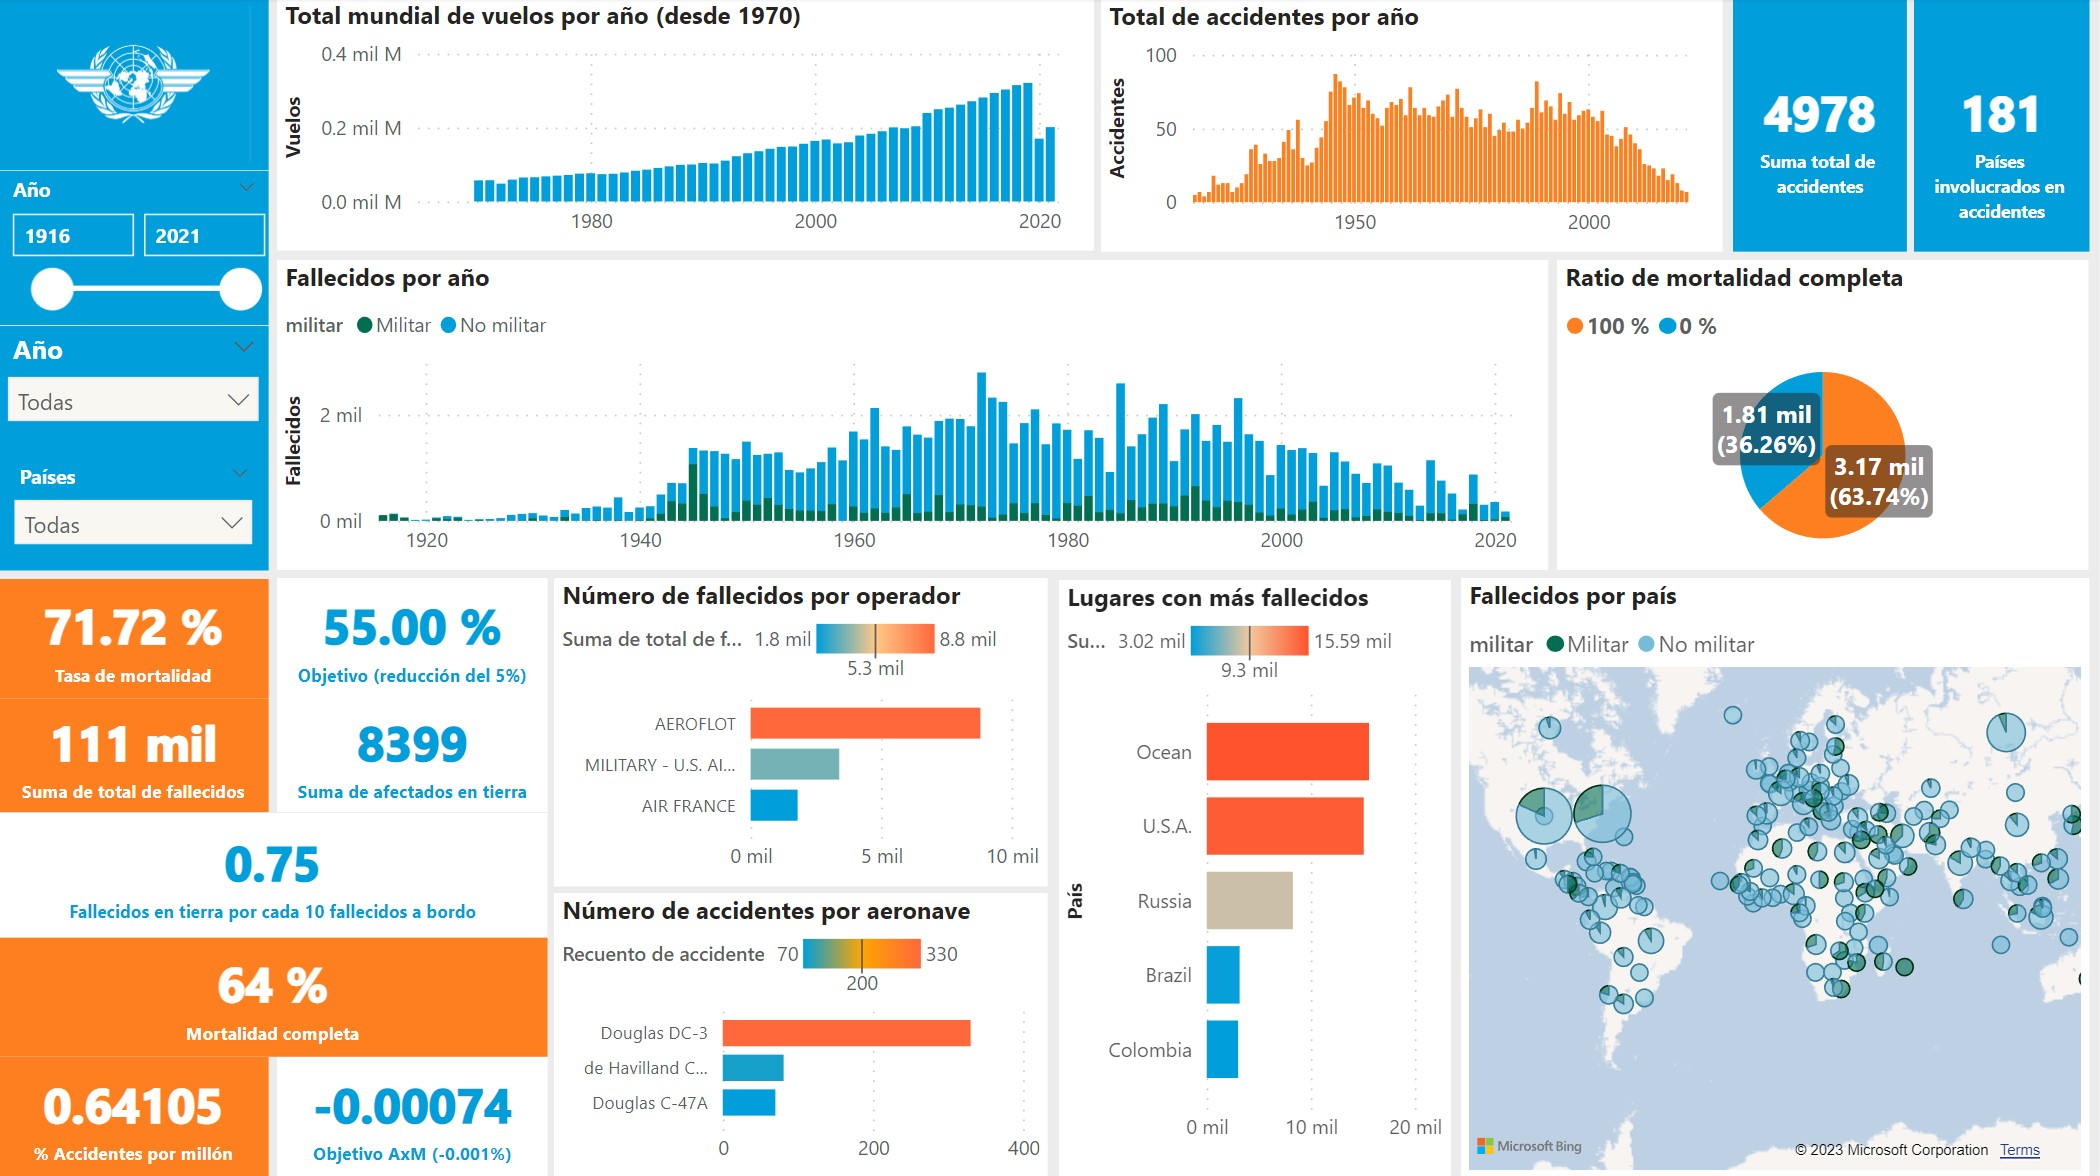

Layout of this report page (visuals, bound fields, positions):
{"tool":"powerbi","page":{"name":"Página 1","canvas":[1280,720],"ordinal":0},"visuals":[{"type":"columnChart","title":"Fallecidos por año","fields":{"Series":["accidentes.military"],"Category":["Calendario.Fecha.Variación.Jerarquía de fechas.Año"],"Y":["Sum(accidentes.total de fallecidos)"]},"box":[169.8,159.7,775,189.3],"z":0},{"type":"card","title":"Accidentes","fields":{"Values":["CountNonNull(accidentes.accidente)"]},"box":[1057.5,0.6,105.6,153.8],"z":1000},{"type":"slicer","fields":{"Values":["Calendario.Fecha.Variación.Jerarquía de fechas.Año"]},"box":[0,200,165.3,77.9],"z":2000},{"type":"card","title":"Accidentes","fields":{"Values":["Sum(accidentes.fatalities_total)"]},"box":[0,427.5,165,69.4],"z":3000},{"type":"card","title":"Accidentes","fields":{"Values":["accidentes.Med_mortalidad"]},"box":[0,354.4,165,73.1],"z":4000},{"type":"clusteredBarChart","title":"Número de fallecidos por operador","fields":{"Category":["accidentes.operador"],"Y":["Sum(accidentes.total de fallecidos)"]},"box":[338.8,353.8,301.2,188.1],"z":5000},{"type":"clusteredBarChart","title":"Número de accidentes por aeronave","fields":{"Category":["accidentes.tipo de aeronave"],"Y":["CountNonNull(accidentes.accidente)"]},"box":[338.8,545.6,301.2,174.4],"z":6000},{"type":"card","title":"Accidentes","fields":{"Values":["Count(accidentes.país)"]},"box":[1168.1,0.6,106.9,153.8],"z":7000},{"type":"map","title":"Fallecidos por país","fields":{"Size":["Sum(accidentes.total de fallecidos)"],"Category":["accidentes.país"],"Series":["accidentes.militar"]},"box":[892,353.9,383.1,366.1],"z":8000},{"type":"pieChart","title":"Ratio de mortalidad completa","fields":{"Category":["accidentes.mortalidad del 100%"],"Y":["CountNonNull(accidentes.accidente)"]},"box":[950.6,160,324.4,188.8],"z":9000},{"type":"slicer","fields":{"Values":["accidentes.país"]},"box":[0,277.9,165.3,71.1],"z":10000},{"type":"clusteredColumnChart","title":"Total mundial de vuelos por año (desde 1970)","fields":{"Y":["Sum(total_vuelos.total)"],"Category":["Calendario.Fecha.Variación.Jerarquía de fechas.Año"]},"box":[170.1,0,498.1,154.2],"z":11000},{"type":"clusteredColumnChart","title":"Total de accidentes por año","fields":{"Y":["CountNonNull(accidentes.accidente)"],"Category":["Calendario.Fecha.Variación.Jerarquía de fechas.Año"]},"box":[672.4,0.6,378.6,153.6],"z":12000},{"type":"clusteredBarChart","title":"Lugares con más fallecidos","fields":{"Category":["accidentes.país"],"Y":["Sum(accidentes.total de fallecidos)"]},"box":[646.9,355,238.8,365],"z":13000},{"type":"card","title":"Accidentes","fields":{"Values":["accidentes.Objetivo"]},"box":[170,353.8,165,73.8],"z":14000},{"type":"slicer","fields":{"Values":["Calendario.Fecha.Variación.Jerarquía de fechas.Año"]},"box":[0,105.5,165.2,94.5],"z":15000},{"type":"card","title":"Accidentes","fields":{"Values":["Avg(accidentes.mortalidad del 100%)"]},"box":[0,572.5,335,73.1],"z":16000},{"type":"card","title":"Accidentes","fields":{"Values":["accidentes.Vuelos accidentados"]},"box":[0,645.6,165,74.4],"z":17000},{"type":"card","title":"Accidentes","fields":{"Values":["Calendario.AxM"]},"box":[170,645.6,165,74.4],"z":18000},{"type":"card","title":"Accidentes","fields":{"Values":["Sum(accidentes.afectados en tierra)"]},"box":[170,427.5,165,69.4],"z":19000},{"type":"card","title":"Accidentes","fields":{"Values":["Calendario.ratio_muertes_tierra"]},"box":[0,496.8,335.3,75.8],"z":20000},{"type":"image","box":[0,0,165.3,105.3],"z":21000}]}

Visuals, with their boxes in screenshot pixels (x1, y1, x2, y2), scaled from the page's 1280x720 canvas onto the 2100x1176 screenshot:
"Fallecidos por año" columnChart: 279 261 1550 570
"Accidentes" card: 1735 1 1908 252
slicer - Calendario.Fecha.Variación.Jerarquía de fechas.Año: 0 327 271 454
"Accidentes" card: 0 698 271 812
"Accidentes" card: 0 579 271 698
"Número de fallecidos por operador" clusteredBarChart: 556 578 1050 885
"Número de accidentes por aeronave" clusteredBarChart: 556 891 1050 1175
"Accidentes" card: 1916 1 2092 252
"Fallecidos por país" map: 1463 578 2092 1175
"Ratio de mortalidad completa" pieChart: 1560 261 2092 570
slicer - accidentes.país: 0 454 271 570
"Total mundial de vuelos por año (desde 1970)" clusteredColumnChart: 279 0 1096 252
"Total de accidentes por año" clusteredColumnChart: 1103 1 1724 252
"Lugares con más fallecidos" clusteredBarChart: 1061 580 1453 1175
"Accidentes" card: 279 578 550 698
slicer - Calendario.Fecha.Variación.Jerarquía de fechas.Año: 0 172 271 327
"Accidentes" card: 0 935 550 1054
"Accidentes" card: 0 1054 271 1175
"Accidentes" card: 279 1054 550 1175
"Accidentes" card: 279 698 550 812
"Accidentes" card: 0 811 550 935
image: 0 0 271 172
